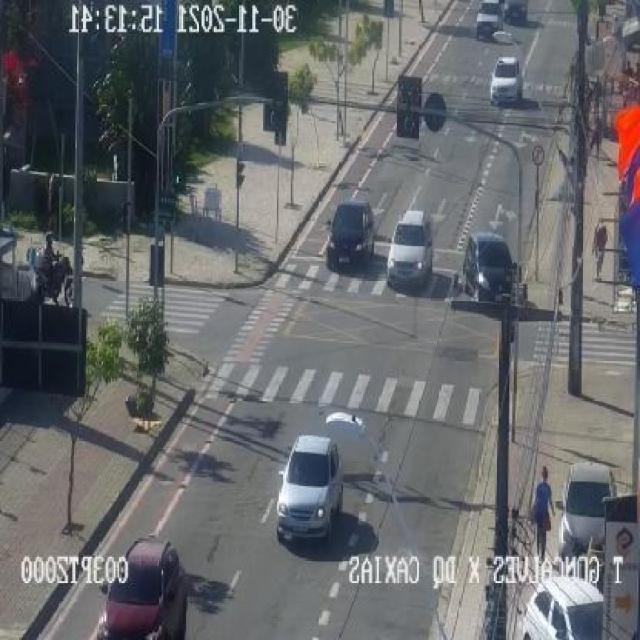Car: (97, 537, 189, 639), (276, 434, 342, 543), (558, 463, 616, 558), (518, 576, 604, 640), (460, 232, 518, 301), (386, 211, 433, 288), (326, 200, 375, 270), (489, 56, 523, 104), (476, 1, 503, 40), (502, 0, 529, 24)
Cycle: (23, 252, 74, 306)
